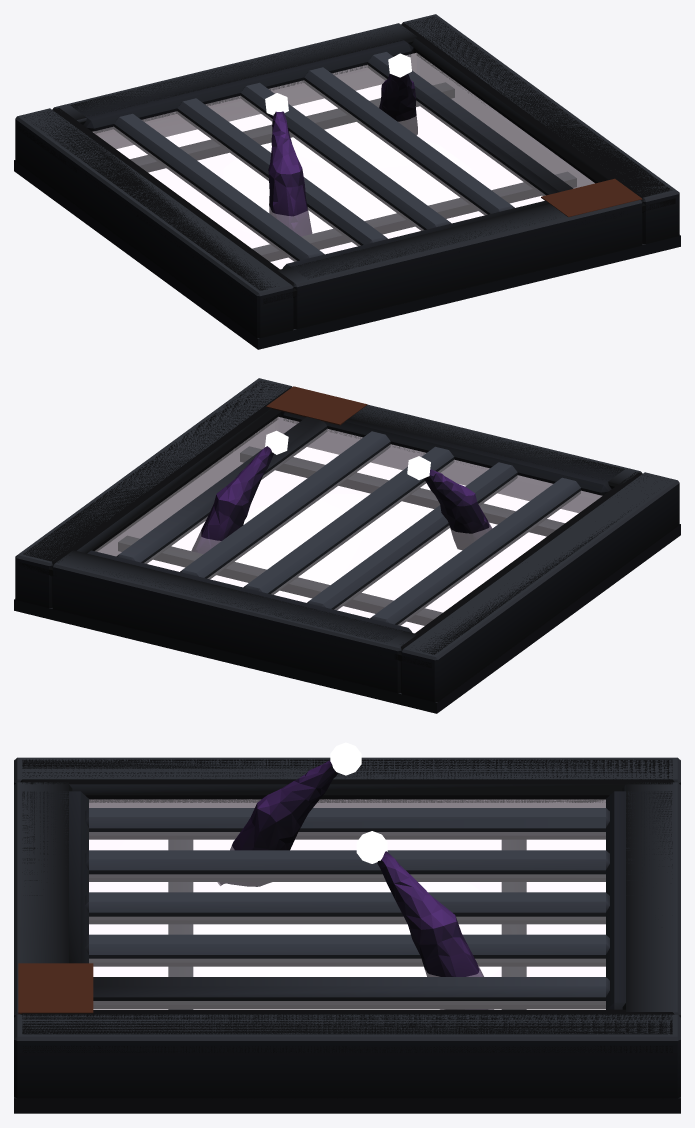
Rendered from FloorGrate.glb.
3 views of the same model, one above another, from view 1: azimuth 30°, elevation 25°; view 2: azimuth 150°, elevation 25°; view 3: azimuth 270°, elevation 25° (orthographic). The views are drawn at different scales.
Parts seen in each view (by area): view 1: Body, Haze_Glow, Under_Glow; view 2: Body, Haze_Glow, Under_Glow; view 3: Body, Haze_Glow, Under_Glow.
Part boxes in pixels (left/top/right/bottom): Body: left=14, top=14, right=680, bottom=349; Haze_Glow: left=93, top=53, right=594, bottom=269; Under_Glow: left=116, top=53, right=544, bottom=269; Body: left=14, top=378, right=680, bottom=713; Haze_Glow: left=95, top=417, right=601, bottom=633; Under_Glow: left=147, top=430, right=578, bottom=633; Body: left=14, top=757, right=680, bottom=1113; Haze_Glow: left=89, top=799, right=605, bottom=1009; Under_Glow: left=89, top=742, right=605, bottom=1009.
Bounding box in the file's own units: 8 × 2.42 × 8.
